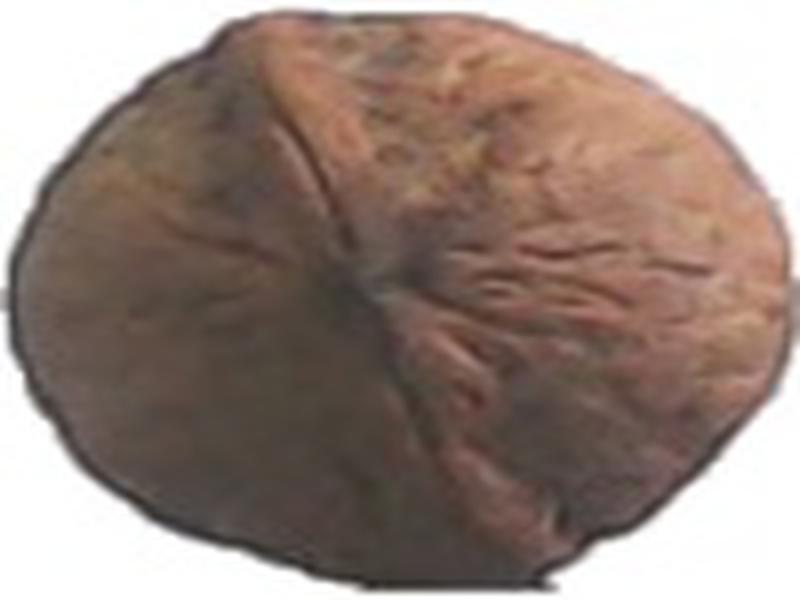walnut: (4, 5, 800, 598)
